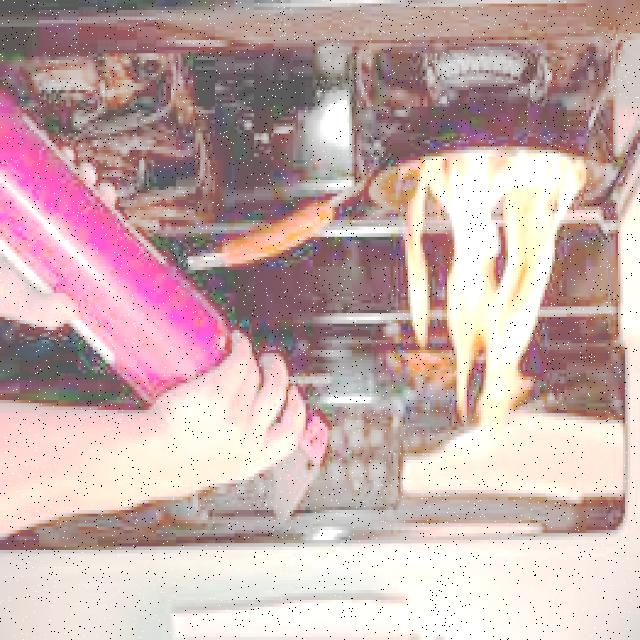api: (392, 158, 604, 424)
